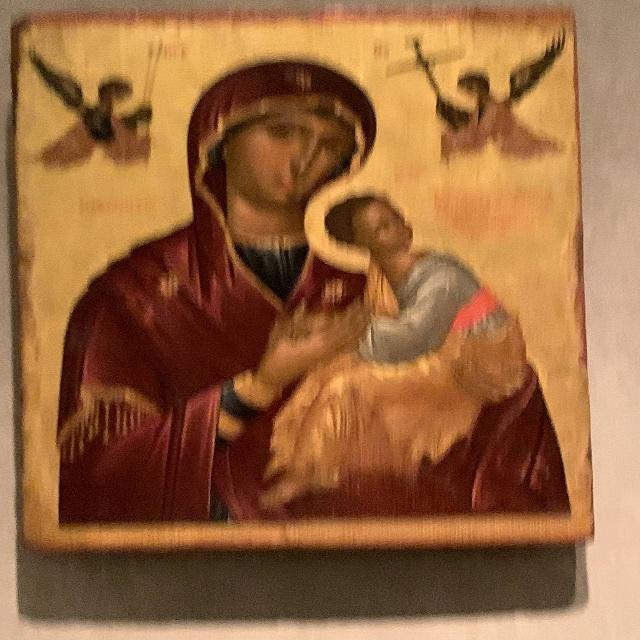angel: (411, 28, 575, 171), (25, 40, 170, 168)
christ_kid: (257, 180, 539, 494)
cross: (388, 30, 468, 100)
mary: (59, 56, 569, 518)
wing: (506, 26, 572, 104), (25, 40, 84, 116)
